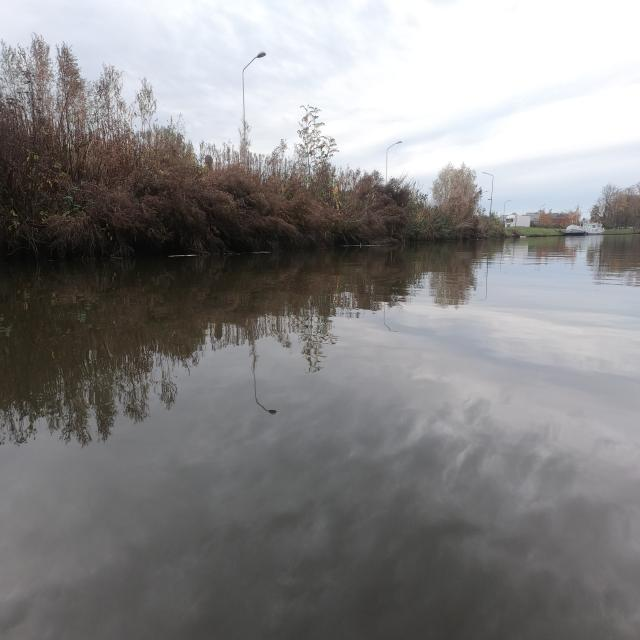boat: (564, 223, 603, 235)
reed: (0, 35, 498, 258)
sky: (1, 1, 639, 213)
water: (1, 241, 638, 639)
